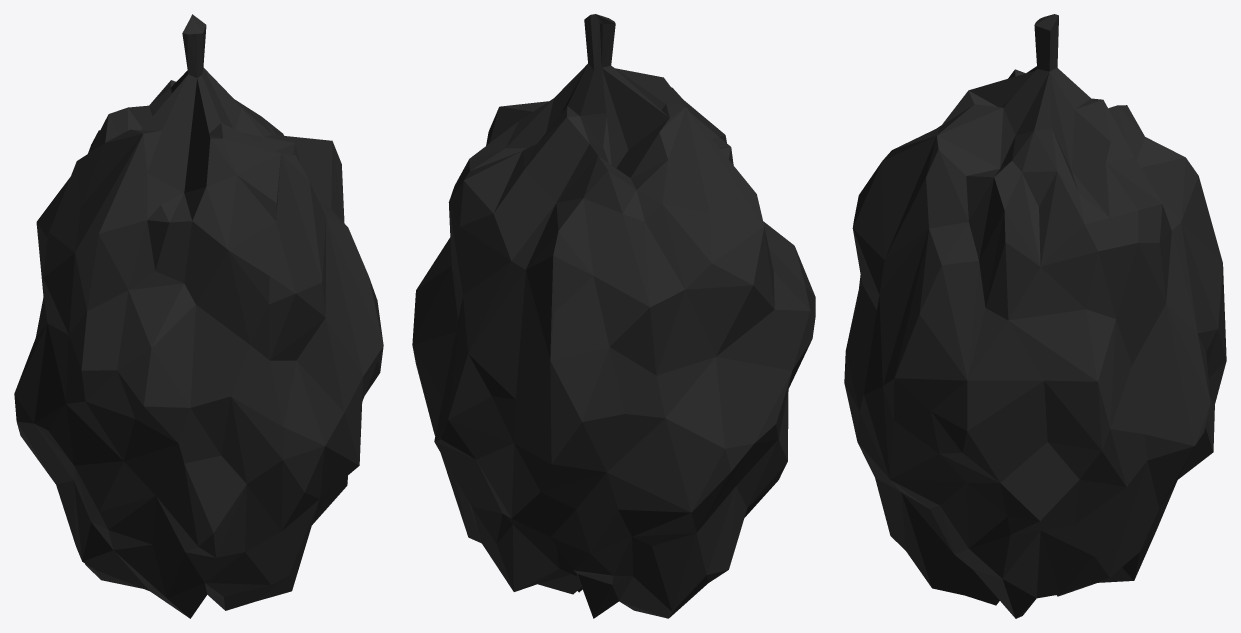
The model's file is DarkTrashBag.fbx.
3 views of the same model, side by side, from view 1: azimuth 30°, elevation 25°; view 2: azimuth 150°, elevation 25°; view 3: azimuth 270°, elevation 25° (orthographic). The views are drawn at different scales.
Visible parts, largest first — view 1: DarkTrashBag; view 2: DarkTrashBag; view 3: DarkTrashBag.
Part boxes in pixels (box(x1,y1,x2,y2)): DarkTrashBag: box(14, 14, 383, 618); DarkTrashBag: box(412, 14, 815, 618); DarkTrashBag: box(844, 14, 1226, 618).
Bounding box in the file's own units: 57.06 × 102 × 59.76.
